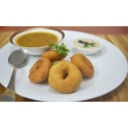vada: (49, 59, 84, 92), (72, 52, 95, 78), (29, 57, 52, 83), (43, 49, 67, 61)
